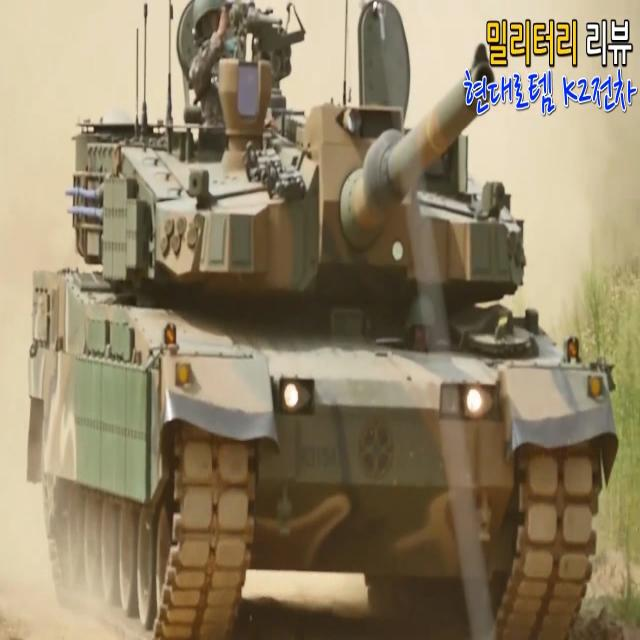korea tank: (27, 1, 618, 640)
